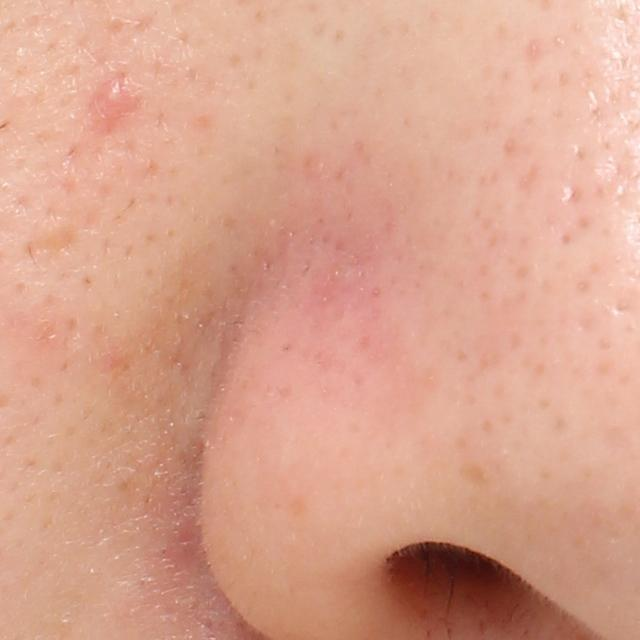atrophic_scar: (5, 220, 86, 269)
pustule: (92, 77, 136, 119)
